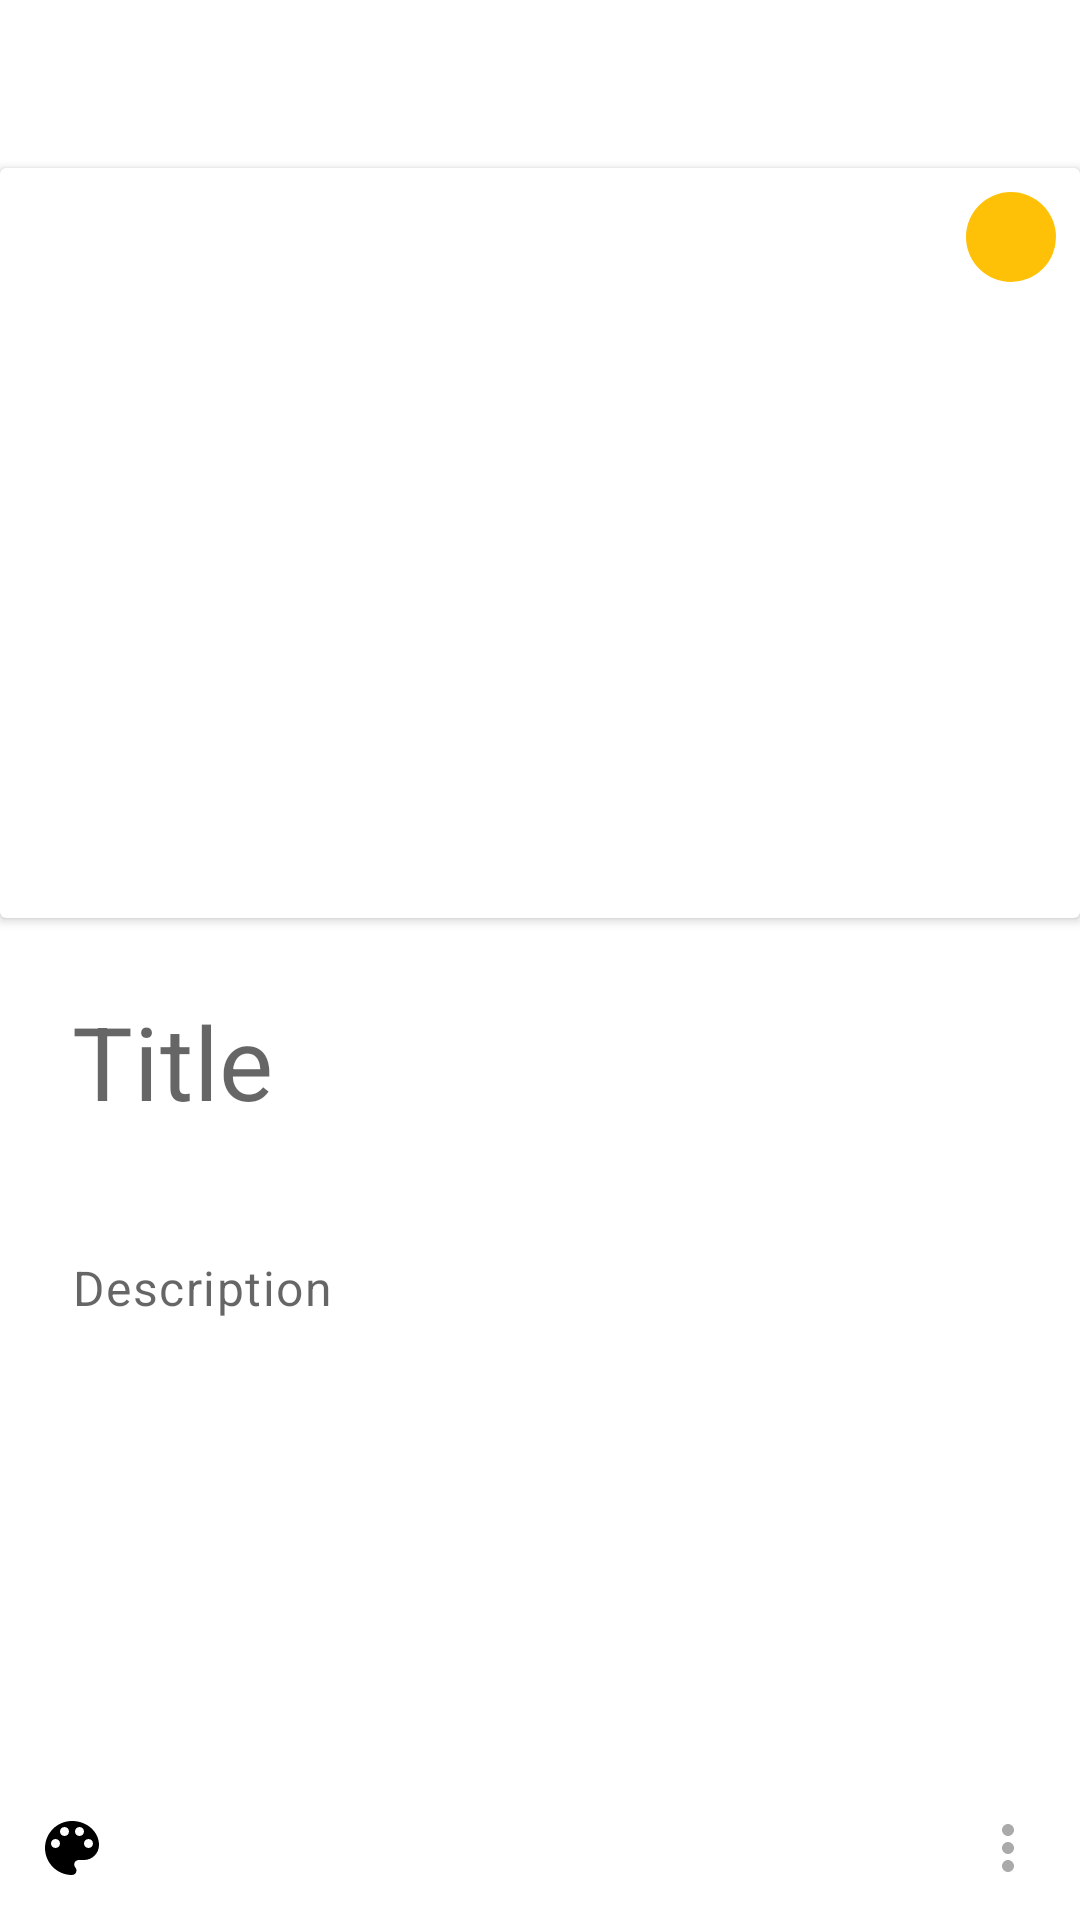

Named icons in this screenshot (1080×1920) and their centers, (x,y):
Menu of colors: (72,1848)
Options menu: (1008,1848)
